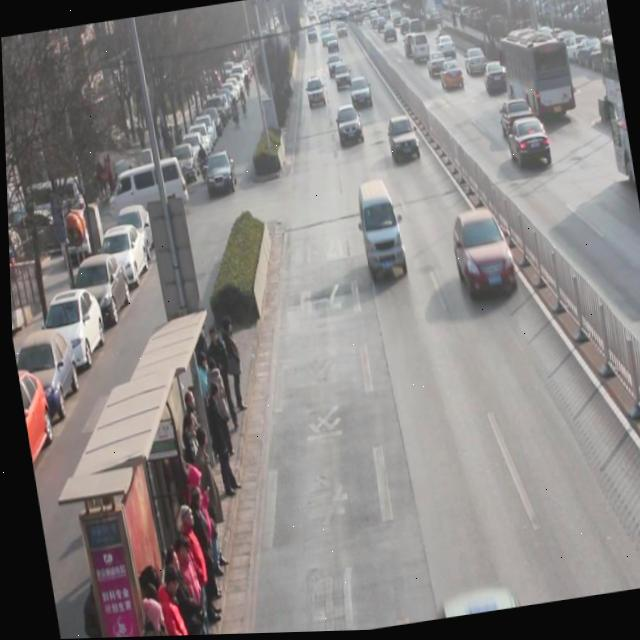car: (446, 207, 517, 305), (503, 116, 552, 177), (384, 113, 421, 170), (496, 99, 538, 148), (334, 105, 365, 152), (482, 61, 511, 99), (347, 77, 374, 116), (436, 59, 464, 95), (462, 47, 488, 80), (425, 51, 449, 84), (435, 34, 458, 67), (303, 77, 326, 110), (332, 64, 352, 93)
truck: (350, 177, 408, 286)
van: (495, 26, 575, 129), (593, 36, 635, 196)
